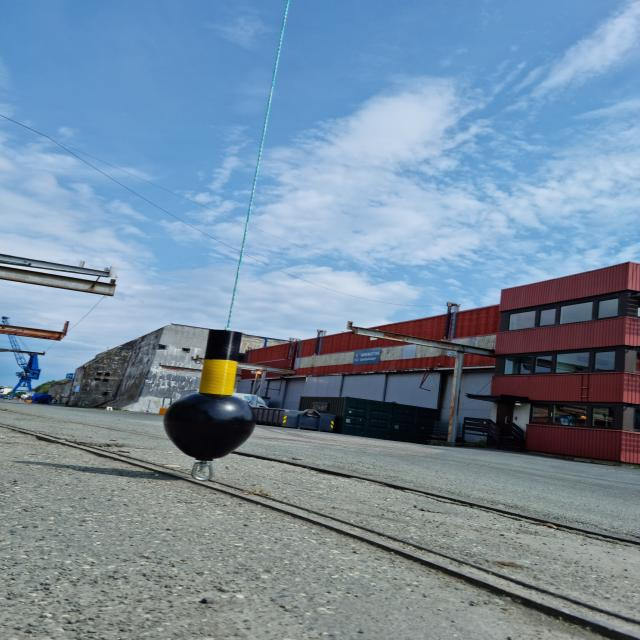east: (165, 329, 257, 461)
